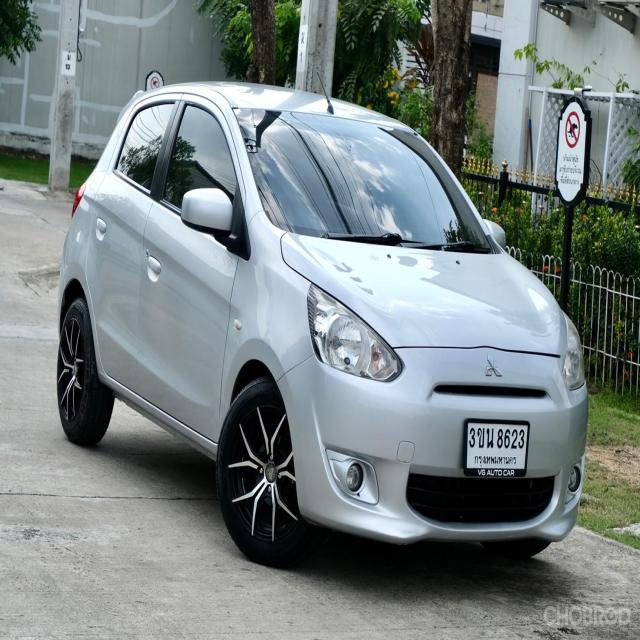license_plate: (463, 418, 530, 476)
